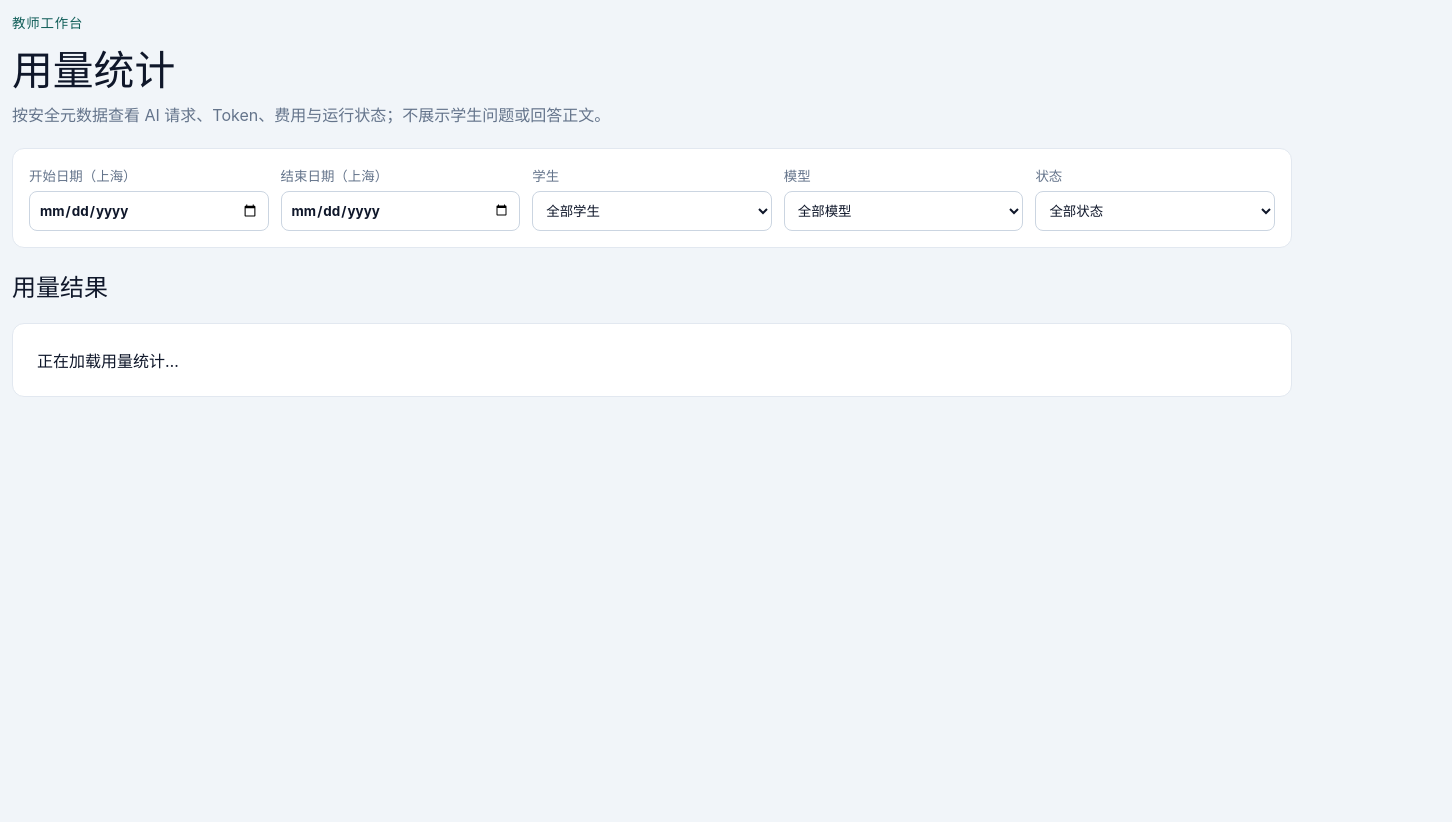
Scenario: AdminAIUsageView › aborts stale replacement requests and appends the exact opaque cursor
Select "已取消" in the dropdown named "status": [1155, 211] box [1035, 191, 1275, 231]
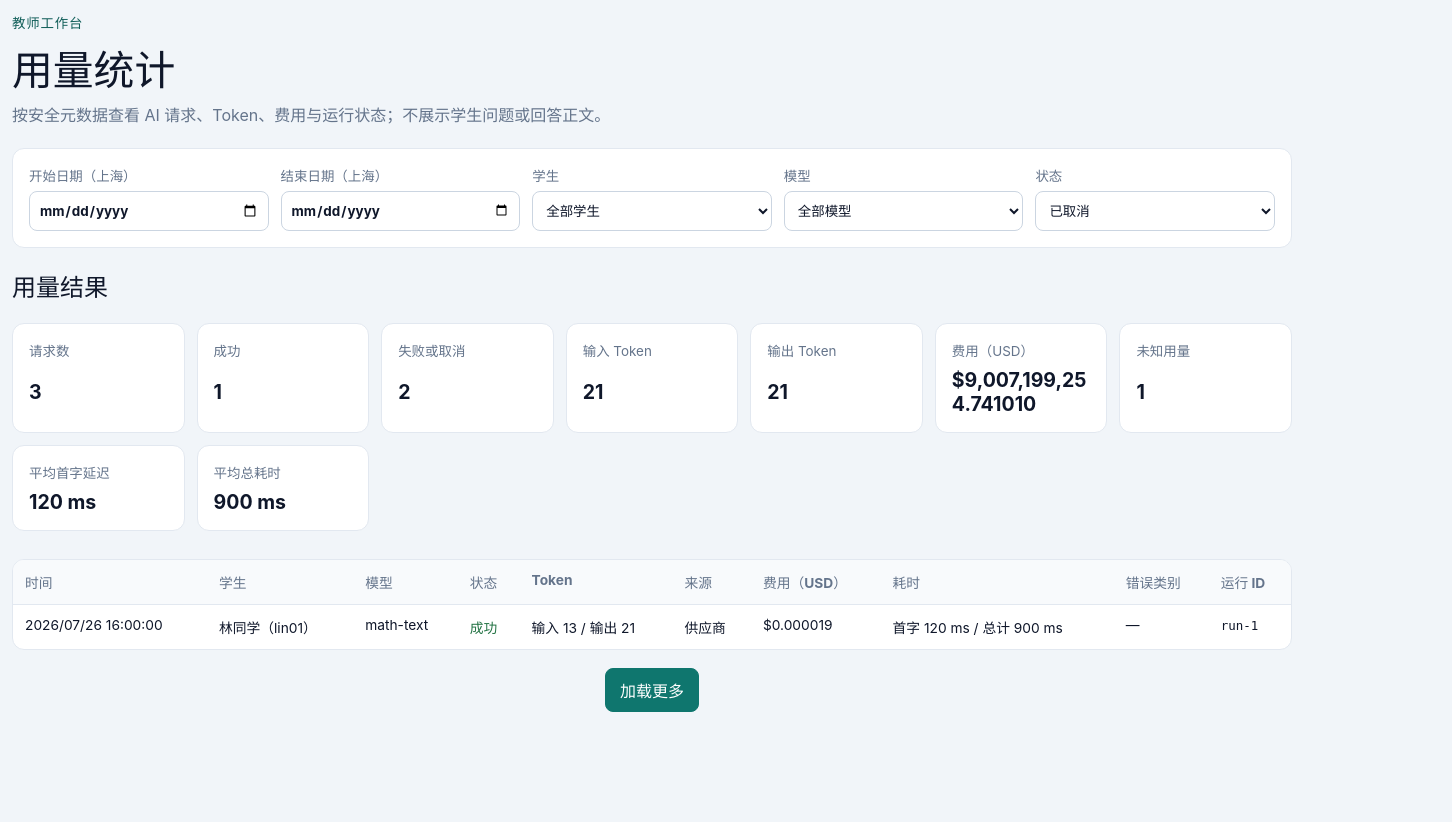
Click the button "加载更多": [652, 690] box [605, 668, 699, 712]
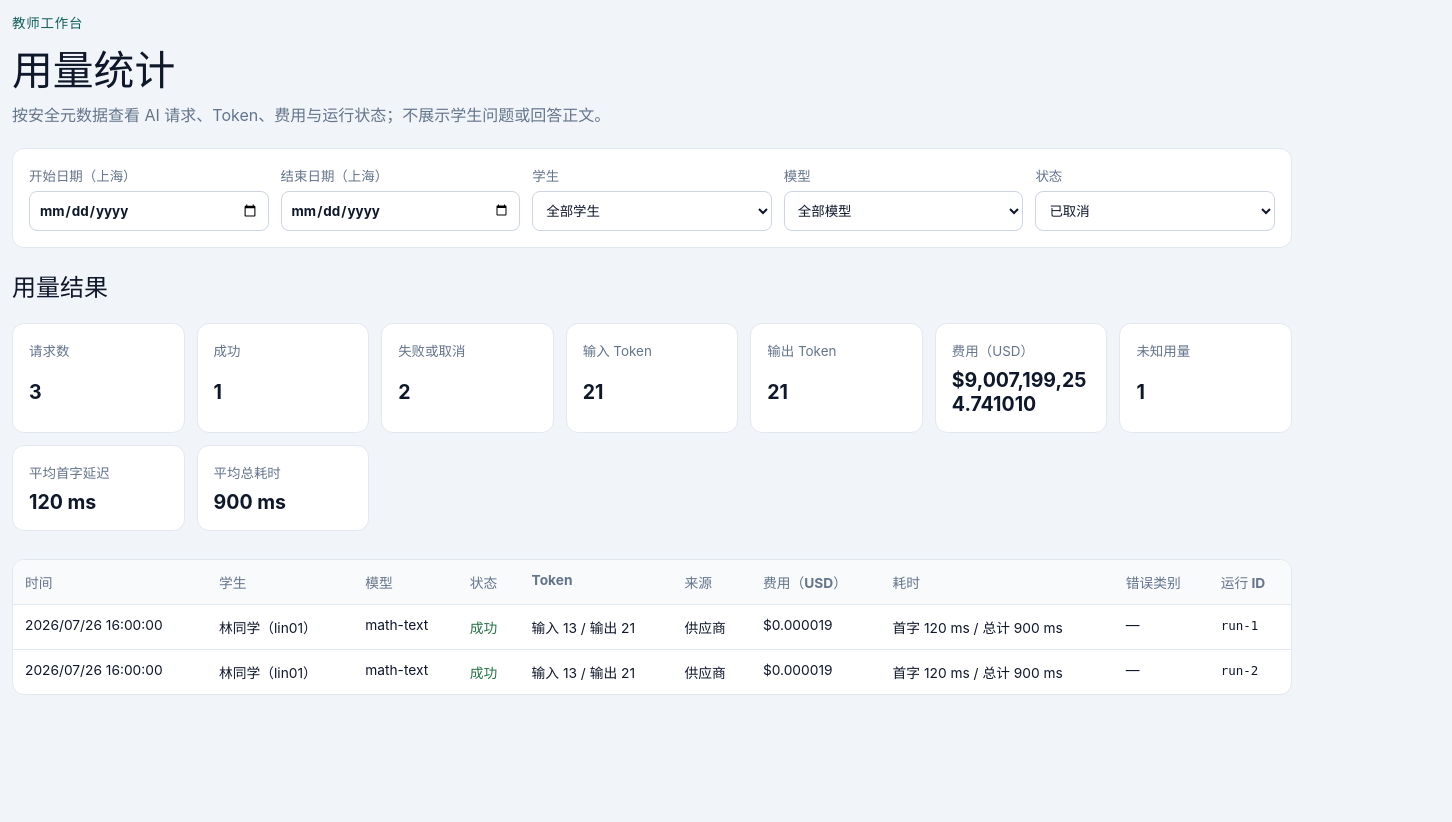
Now the text "run-1" is shown, box [1221, 618, 1258, 633]
Now the text "run-2" is shown, box [1221, 663, 1258, 678]
